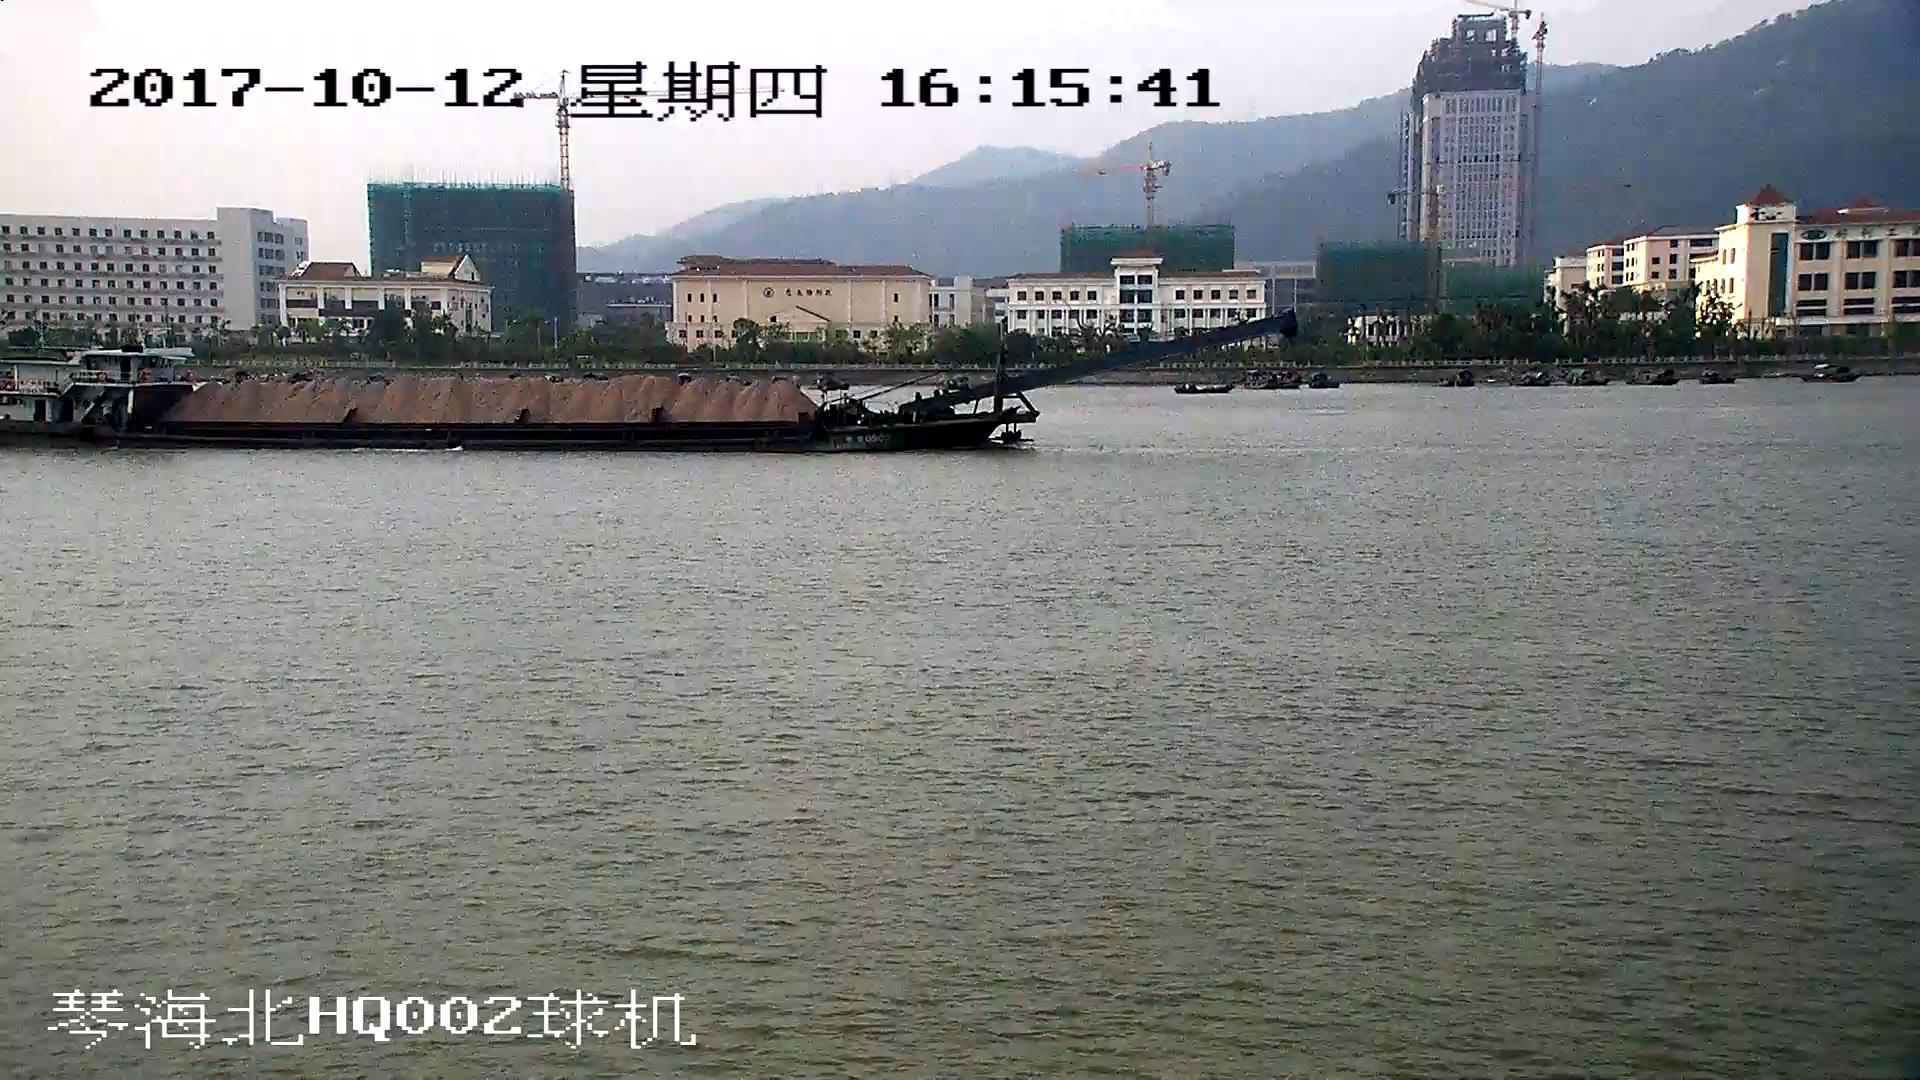ore carrier: (1, 312, 1298, 447)
